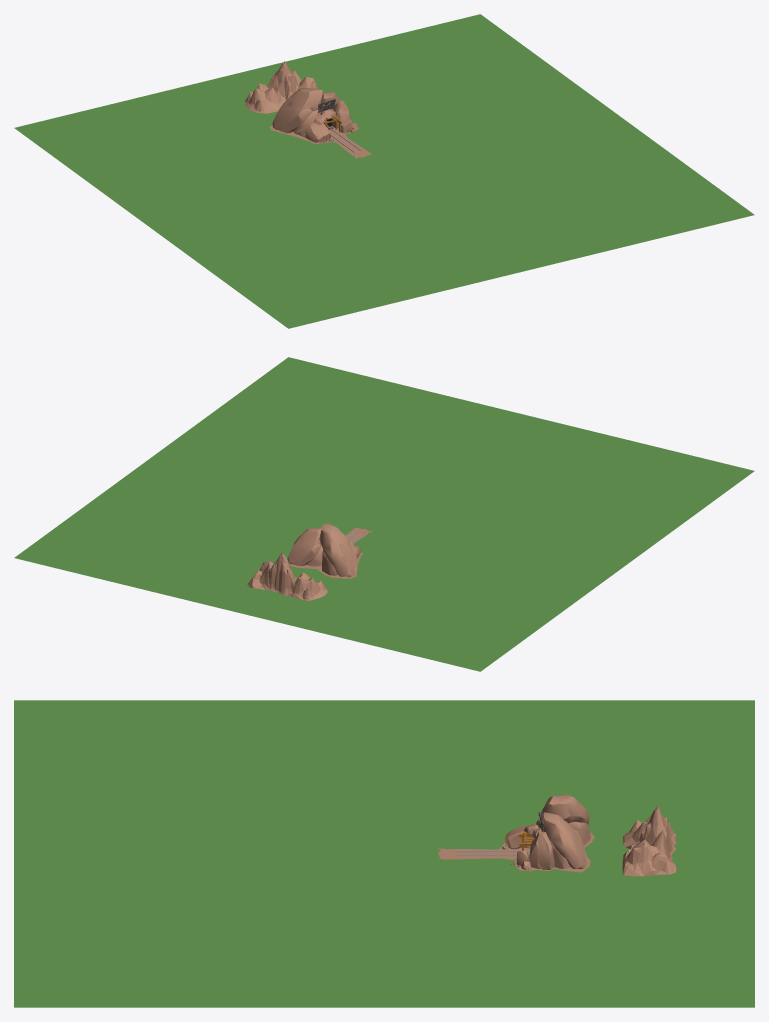
The model's file is Mine platform.fbx.
3 views of the same model, one above another, from view 1: azimuth 30°, elevation 25°; view 2: azimuth 150°, elevation 25°; view 3: azimuth 270°, elevation 25° (orthographic). The views are drawn at different scales.
Visible parts, largest first — view 1: Mine platform, Mountain Lowpoly.001; view 2: Mine platform, Mountain Lowpoly.001; view 3: Mine platform, Mountain Lowpoly.001.
Boxes of the visible parts, <box> form: Mine platform: <box>14,14,754,328</box>; Mountain Lowpoly.001: <box>245,61,323,113</box>; Mine platform: <box>14,357,754,671</box>; Mountain Lowpoly.001: <box>247,552,327,600</box>; Mine platform: <box>14,700,754,1007</box>; Mountain Lowpoly.001: <box>622,805,677,876</box>.
Bounding box in the file's own units: 9390 × 818 × 9570.
